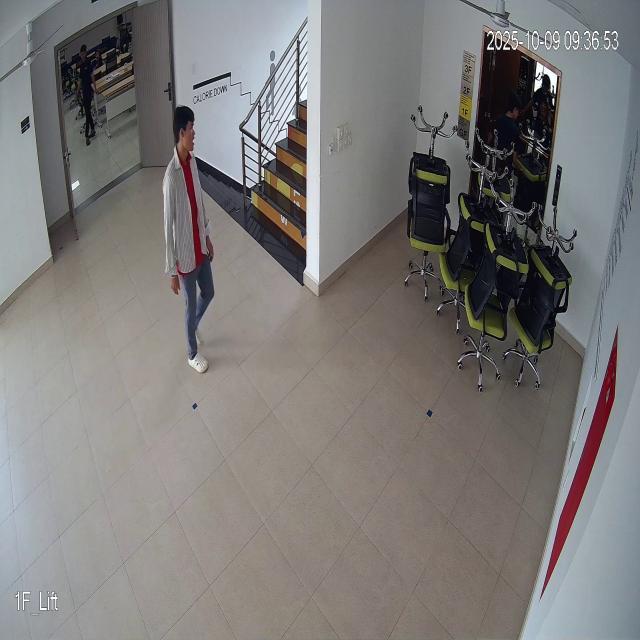face: (172, 98, 202, 162)
